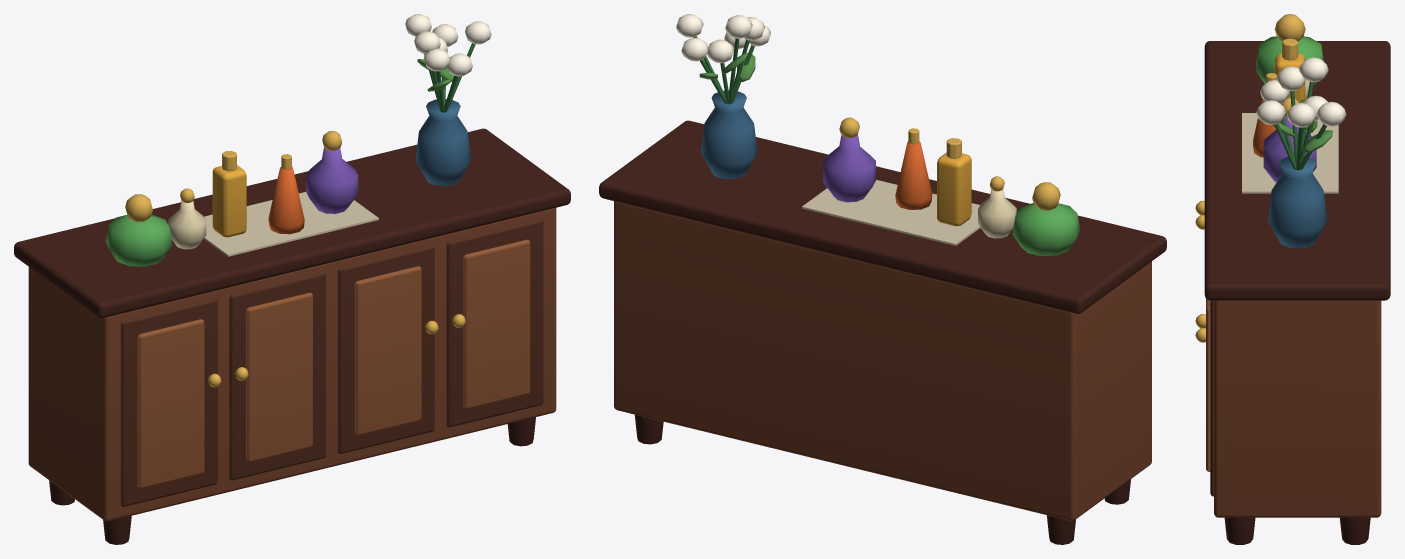
Rendered from sideboard.glb.
The picture shows the model from 3 angles, left to right: view 1: azimuth 30°, elevation 25°; view 2: azimuth 150°, elevation 25°; view 3: azimuth 270°, elevation 25°; orthographic projection. The views are drawn at different scales.
Parts seen in each view (by area): view 1: sideboard; view 2: sideboard; view 3: sideboard.
Boxes of the visible parts, bbox=[...] form: sideboard: bbox=[14, 14, 570, 544]; sideboard: bbox=[599, 14, 1166, 544]; sideboard: bbox=[1195, 14, 1390, 544].
Size of the model in its own units: 1.57 by 1.32 by 0.525.
